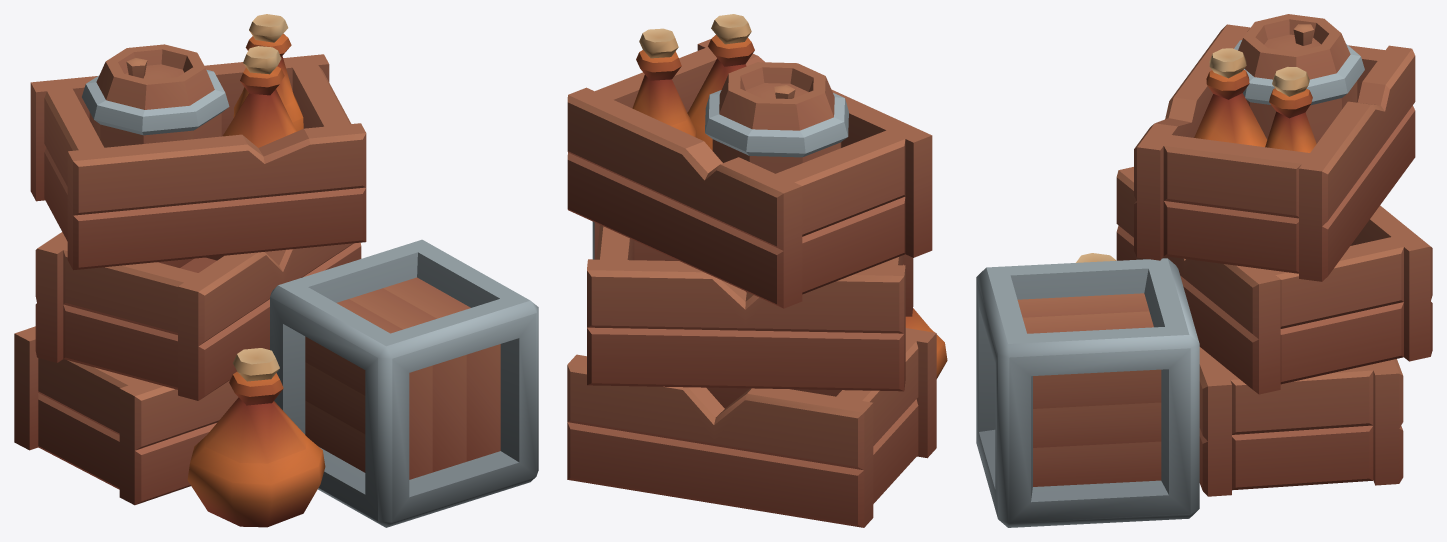
Rendered from crates_stacked.obj.
The picture shows the model from 3 angles, left to right: view 1: azimuth 30°, elevation 25°; view 2: azimuth 150°, elevation 25°; view 3: azimuth 270°, elevation 25°; orthographic projection. The views are drawn at different scales.
Parts seen in each view (by area): view 1: crates_stacked; view 2: crates_stacked; view 3: crates_stacked.
Boxes of the visible parts, x1,y1,x2,y2 form: crates_stacked: (14, 14, 538, 527); crates_stacked: (567, 14, 947, 527); crates_stacked: (976, 14, 1432, 527).
Size of the model in its own units: 2.09 by 2.14 by 2.25.
Materials: 1 (1 with a texture image).
